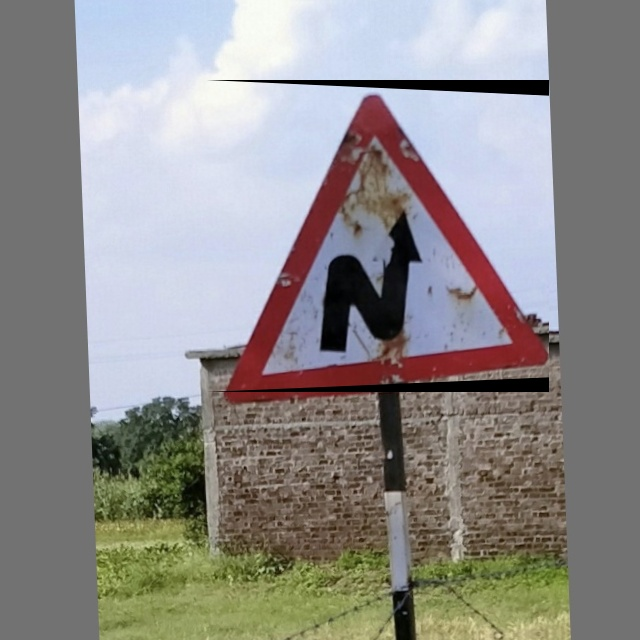Right_Reverse_Bend: (206, 80, 549, 392)
